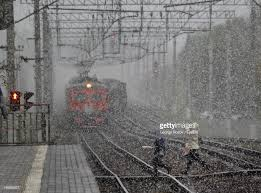crossing railway track: (180, 116, 205, 175), (144, 134, 173, 181)
